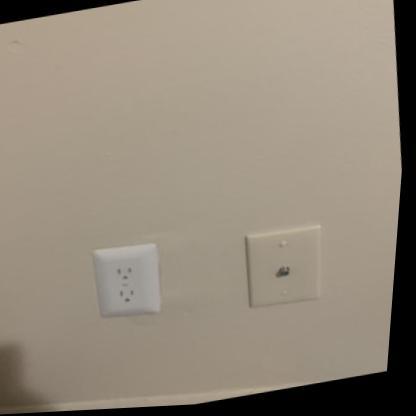OUTLET: (86, 238, 165, 321)
